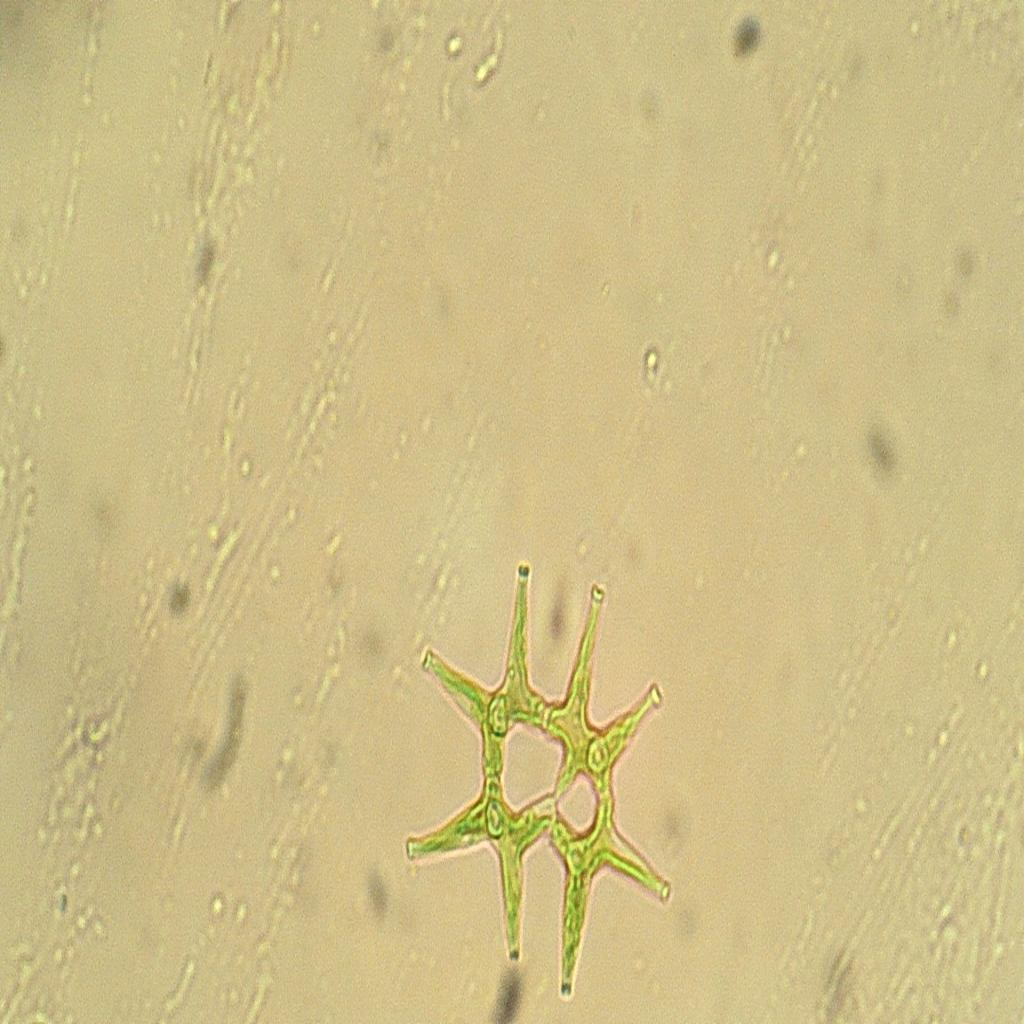Pediastrum_75FO: (374, 530, 702, 1005)
